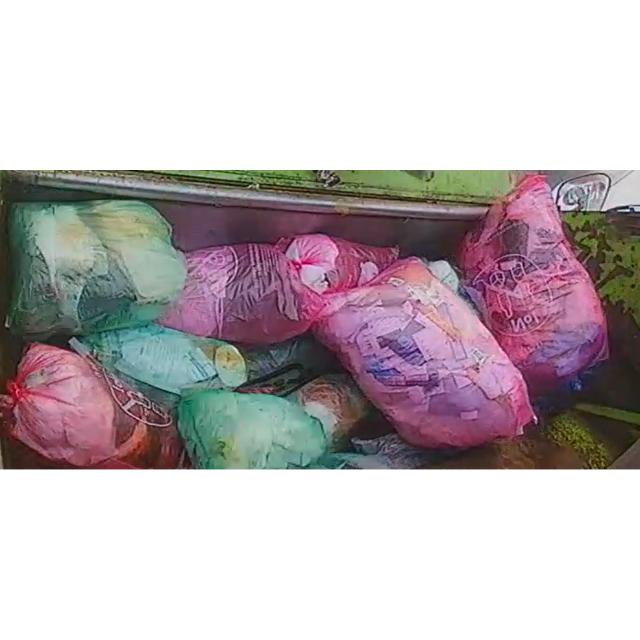general_trashbag: (5, 200, 186, 339), (78, 324, 244, 410), (178, 391, 326, 469)
other_trashbag: (314, 258, 534, 449), (460, 175, 609, 392), (160, 234, 399, 345), (0, 342, 181, 469)
